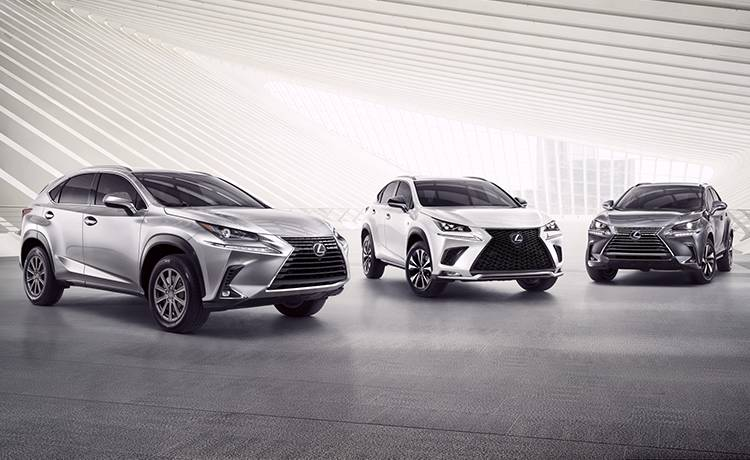car: (11, 164, 353, 350), (351, 163, 571, 318), (580, 164, 741, 303)
